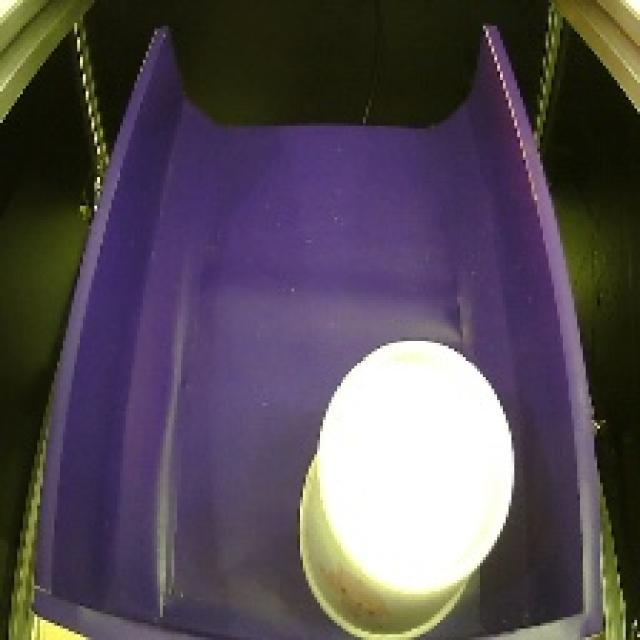cups: (291, 331, 521, 640)
